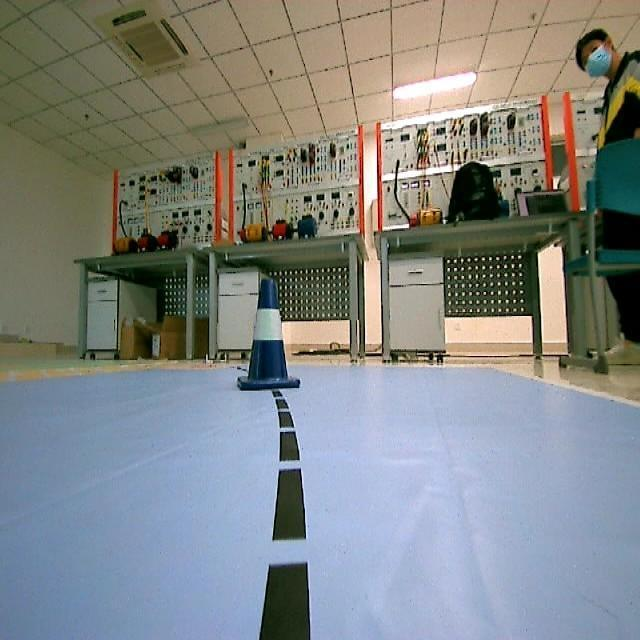obstacle: (222, 266, 310, 401)
